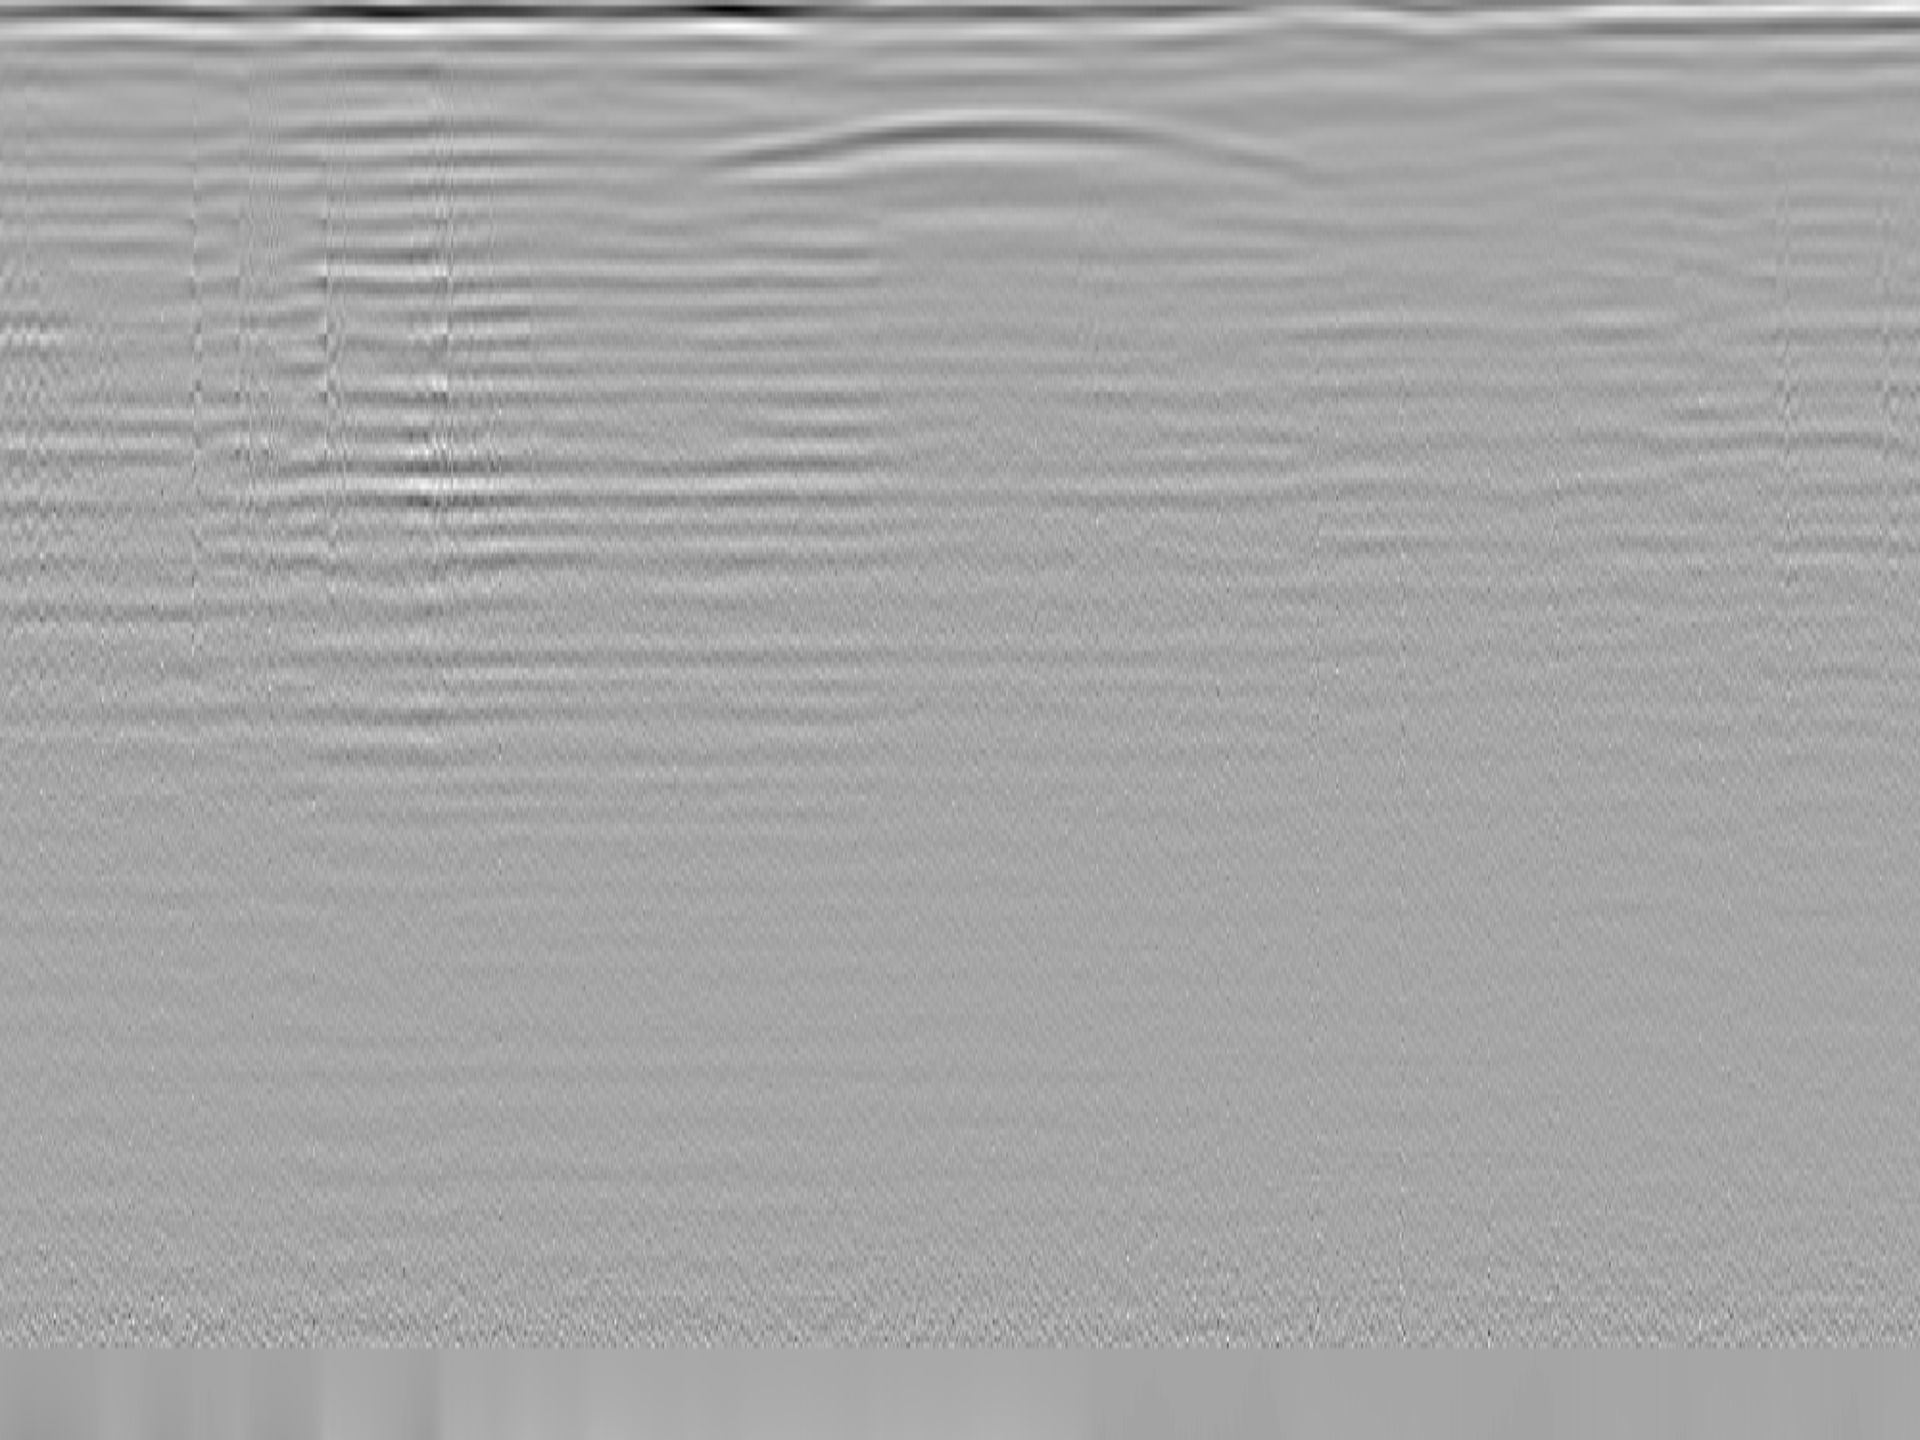Tunnel: (688, 109, 1324, 178)
